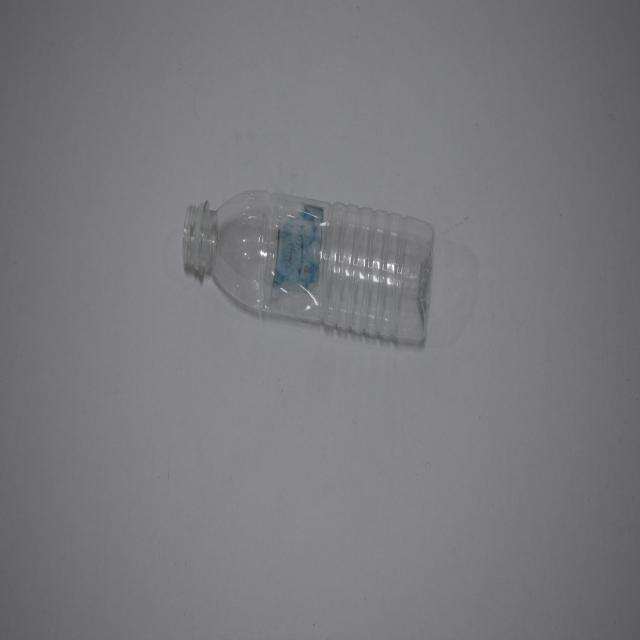bottle: (169, 172, 462, 382)
